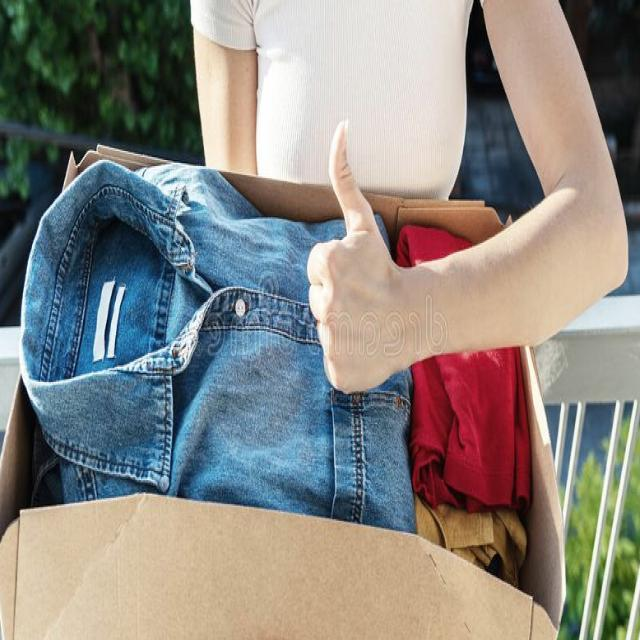clothes: (22, 158, 302, 510), (308, 384, 511, 544)
